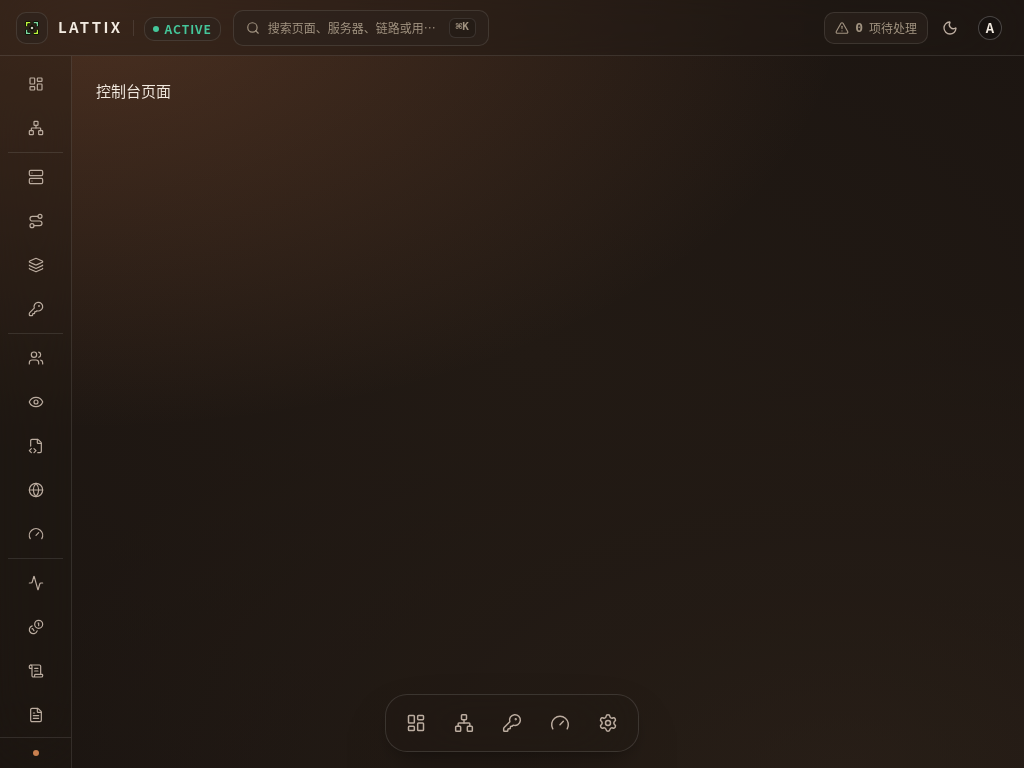
Scenario: 账户头像菜单 › 打开菜单后菜单项可见且应用壳层未被卸载
The width and height of the screenshot is (1024, 768).
Click the button named "账户菜单：admin" at (990, 28), box [972,12,1008,44]
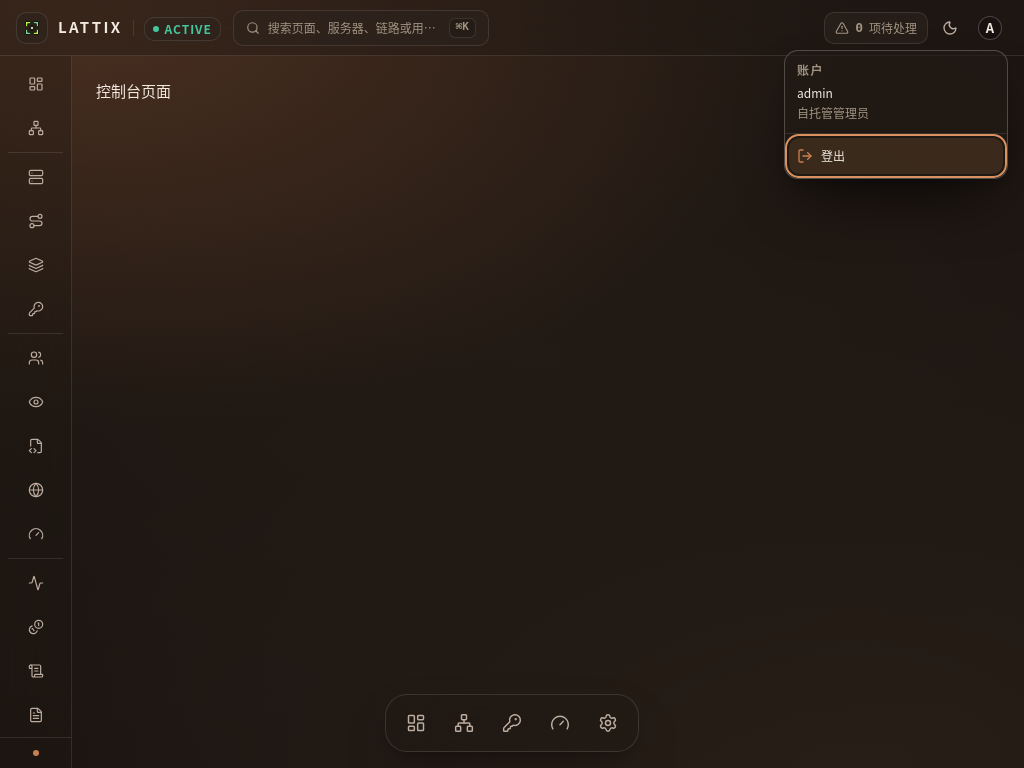
Expected: the text "控制台页面" is shown, [96,80,171,101]
Expected: the text "登出" is shown, [789,138,1003,174]
